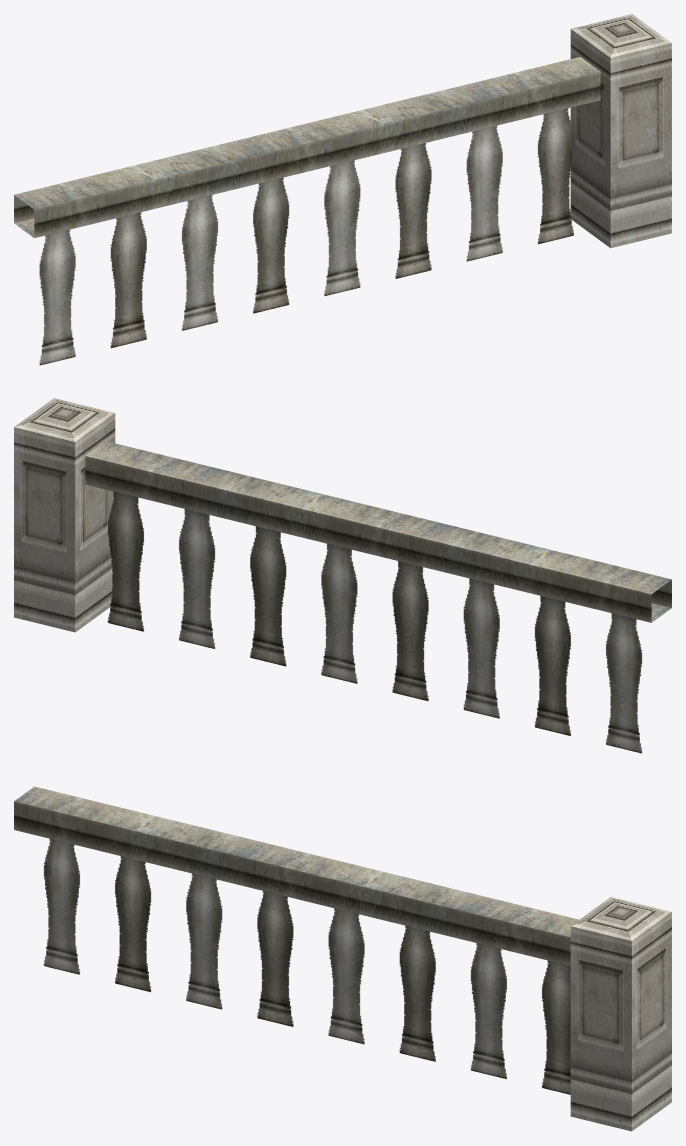
File: rd_fen5.glb
3 views of the same model, one above another, from view 1: azimuth 30°, elevation 25°; view 2: azimuth 150°, elevation 25°; view 3: azimuth 330°, elevation 25° (orthographic).
Visible parts, largest first — view 1: rd_fen5; view 2: rd_fen5; view 3: rd_fen5.
Boxes of the visible parts, x1,y1,x2,y2 form: rd_fen5: (14,14,671,365); rd_fen5: (14,398,671,753); rd_fen5: (14,786,671,1131).
Size of the model in its own units: 5.48 by 1.66 by 0.6051.
Materials: 3 (3 with a texture image).
